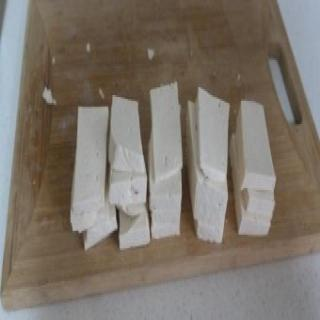Tahu: (69, 82, 183, 253), (187, 88, 276, 245)
